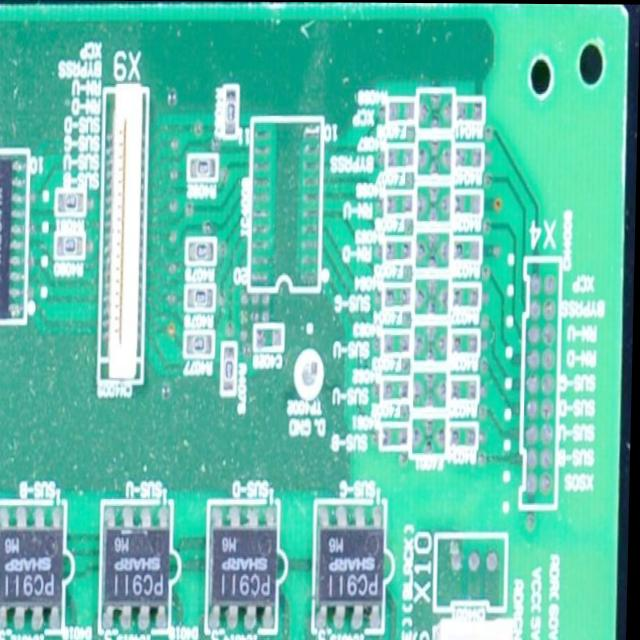IC: (249, 120, 325, 292), (103, 501, 177, 635), (209, 499, 284, 631), (316, 498, 388, 635), (0, 505, 68, 625), (0, 152, 29, 323)
capacitor: (257, 328, 283, 347)
connector: (98, 88, 150, 384), (439, 620, 513, 640)
resistor: (56, 188, 87, 216), (57, 235, 86, 259), (224, 346, 238, 392), (454, 242, 481, 265), (187, 333, 214, 355), (388, 146, 415, 167), (452, 332, 479, 353), (189, 290, 215, 311), (453, 425, 480, 445), (225, 88, 237, 133), (189, 242, 215, 262), (451, 380, 478, 399), (456, 98, 483, 117), (457, 192, 482, 212), (455, 287, 481, 306), (391, 101, 416, 120), (386, 333, 410, 352), (388, 239, 413, 257), (191, 157, 215, 175), (456, 148, 481, 165), (386, 382, 410, 399), (388, 194, 413, 210), (387, 288, 410, 305), (385, 429, 411, 444)
